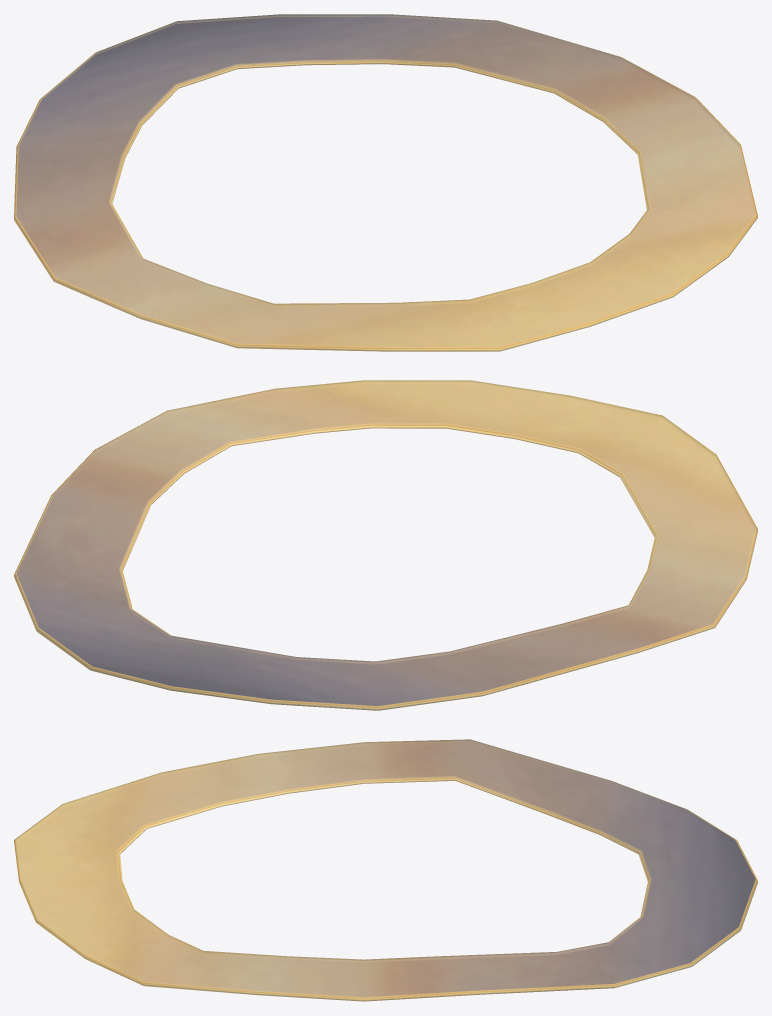
Rendered from little ring.fbx.
3 views of the same model, one above another, from view 1: azimuth 30°, elevation 25°; view 2: azimuth 150°, elevation 25°; view 3: azimuth 270°, elevation 25° (orthographic). The views are drawn at different scales.
Parts seen in each view (by area): view 1: pCylinder2; view 2: pCylinder2; view 3: pCylinder2.
Boxes of the visible parts, x1,y1,x2,y2 form: pCylinder2: [14, 14, 757, 351]; pCylinder2: [14, 380, 757, 710]; pCylinder2: [14, 739, 757, 1001].
Size of the model in its own units: 172 by 7.75 by 193.
Materials: 1 (1 with a texture image).
